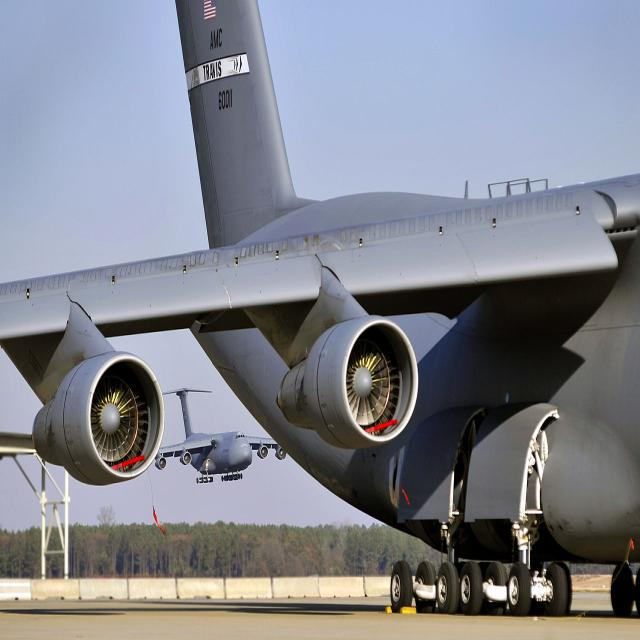MIL_Plane: (0, 0, 640, 574), (155, 342, 287, 439)
